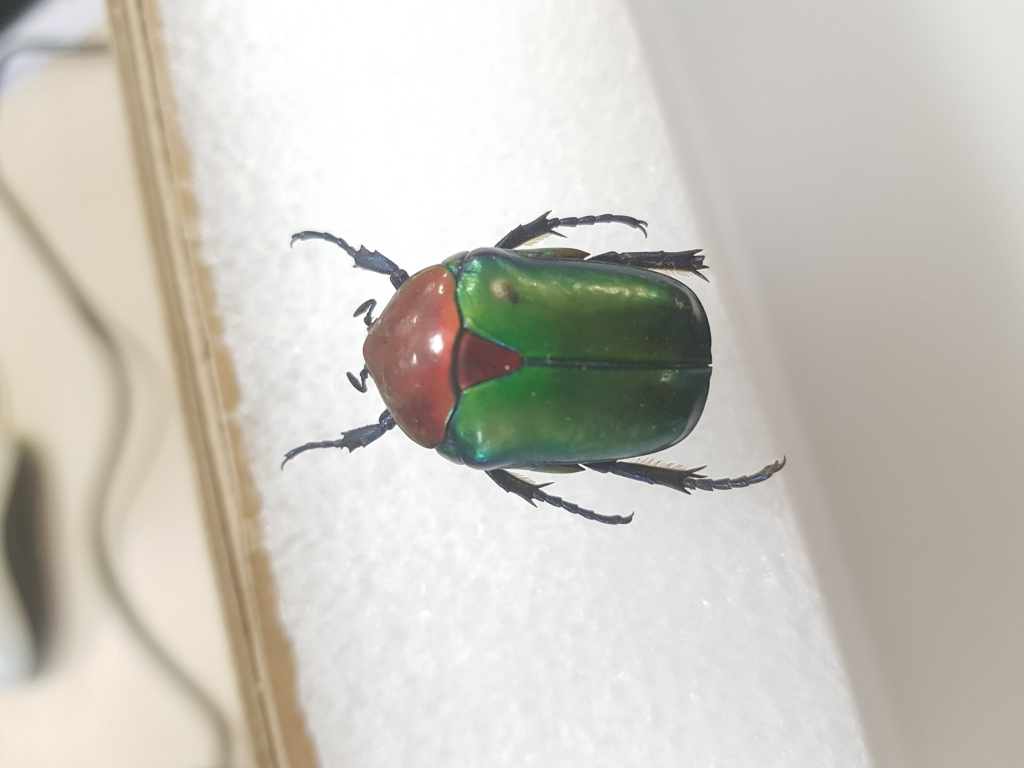Protaetia_speciosa_jousselini: (266, 183, 800, 531)
